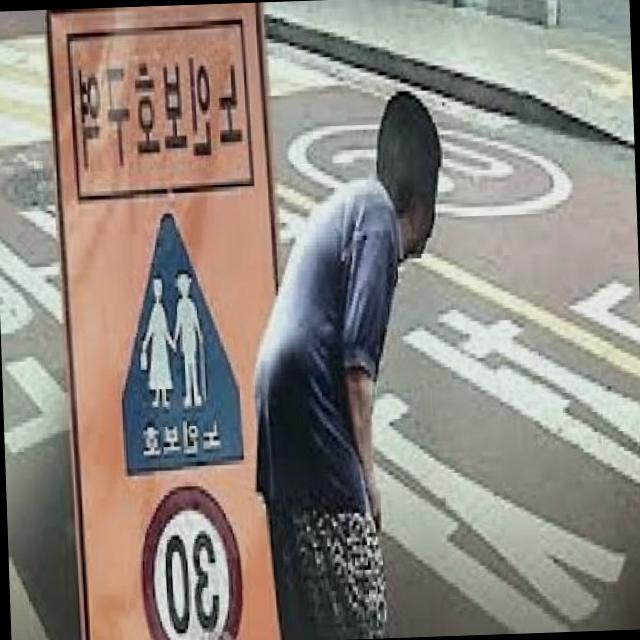Person: (245, 89, 458, 638)
